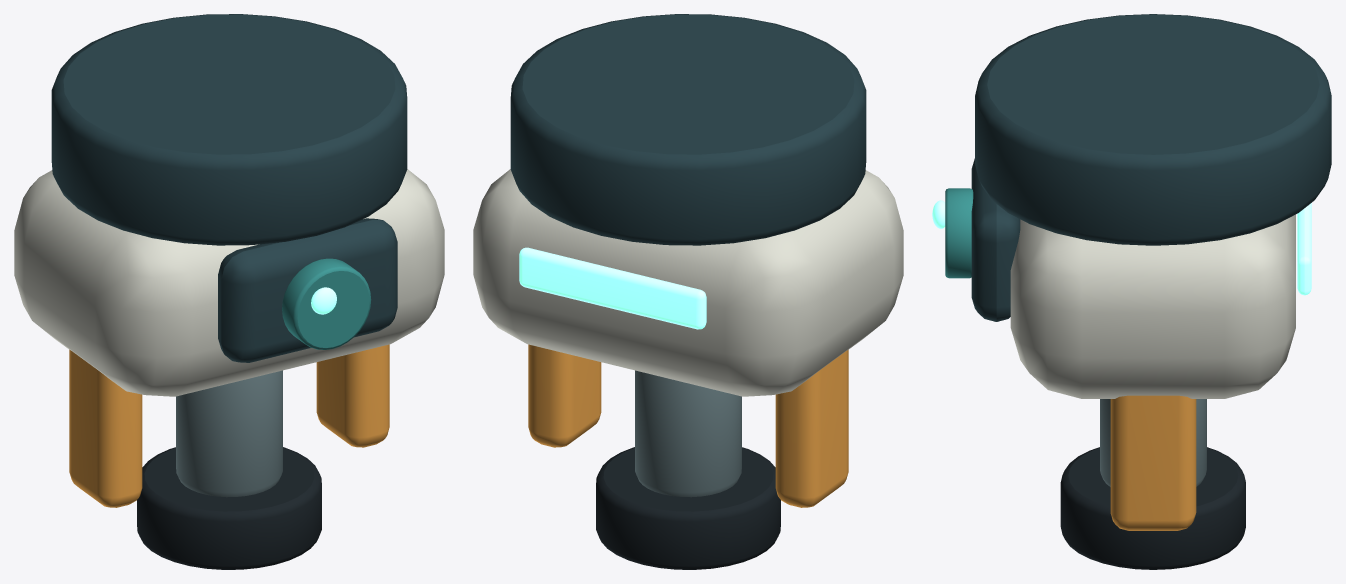
The model's file is gripper.glb.
The picture shows the model from 3 angles, left to right: view 1: azimuth 30°, elevation 25°; view 2: azimuth 150°, elevation 25°; view 3: azimuth 270°, elevation 25°; orthographic projection.
Visible parts, largest first — view 1: Seed_Wrist cuff.001, Seed_Tool housing.001, Seed_Soft fingertip.001, Seed_Camera black surround.001, Seed_Finger piston.001, Seed_Side finger.002, Seed_Side finger.003, Seed_Camera lens.001, Seed_Camera glint.001; view 2: Seed_Wrist cuff.001, Seed_Tool housing.001, Seed_Soft fingertip.001, Seed_Finger piston.001, Seed_Side finger.002, Seed_Wrist status.001, Seed_Side finger.003; view 3: Seed_Wrist cuff.001, Seed_Tool housing.001, Seed_Soft fingertip.001, Seed_Side finger.003, Seed_Camera black surround.001, Seed_Camera lens.001, Seed_Finger piston.001, Seed_Wrist status.001.
Boxes of the visible parts, x1,y1,x2,y2 form: Seed_Wrist cuff.001: (51,14,407,245); Seed_Tool housing.001: (14,169,444,396); Seed_Soft fingertip.001: (137,447,321,569); Seed_Camera black surround.001: (218,218,397,362); Seed_Finger piston.001: (176,370,282,497); Seed_Side finger.002: (69,349,142,507); Seed_Side finger.003: (316,344,389,447); Seed_Camera lens.001: (282,258,371,349); Seed_Camera glint.001: (311,287,336,314); Seed_Wrist cuff.001: (510,14,866,245); Seed_Tool housing.001: (473,169,903,396); Seed_Soft fingertip.001: (596,447,780,569); Seed_Finger piston.001: (635,370,741,497); Seed_Side finger.002: (775,349,848,507); Seed_Wrist status.001: (519,247,706,329); Seed_Side finger.003: (528,344,601,447); Seed_Wrist cuff.001: (975,14,1331,245); Seed_Tool housing.001: (1010,214,1295,398); Seed_Soft fingertip.001: (1060,447,1245,569); Seed_Side finger.003: (1110,395,1196,530); Seed_Camera black surround.001: (971,158,1020,321); Seed_Camera lens.001: (945,188,973,278); Seed_Finger piston.001: (1100,399,1206,486); Seed_Wrist status.001: (1297,203,1311,295).
Bounding box in the file's own units: 0.55 × 0.695 × 0.56.
